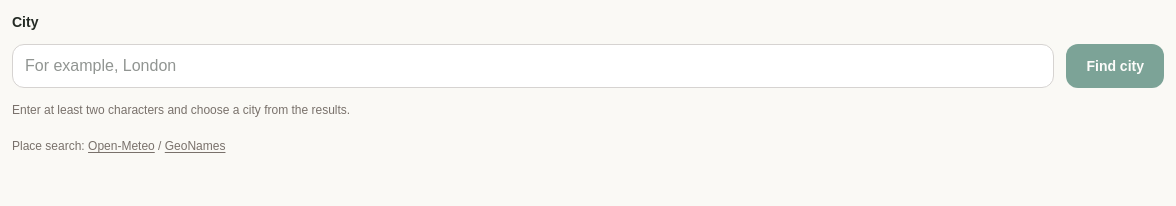
it: localizes an empty city search in en
Type "Unknown city" into the field labelled "City" at {"x": 533, "y": 66}, box [12, 44, 1054, 88]
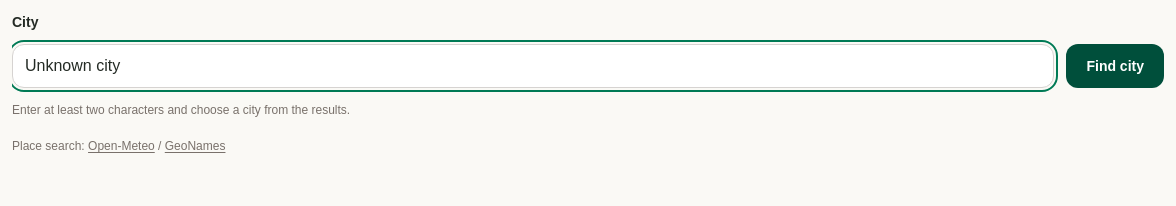
Click the button "Find city" at {"x": 1115, "y": 66}, box [1066, 44, 1164, 88]
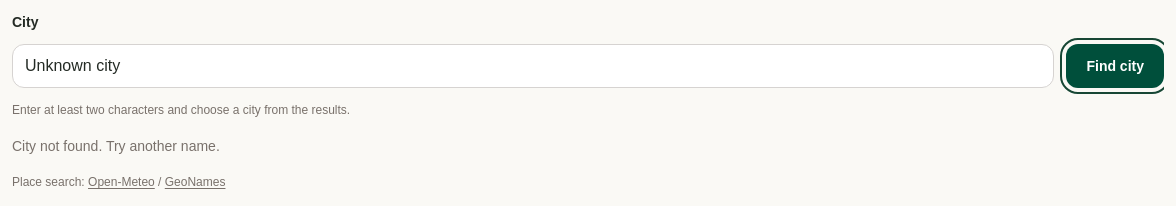
Check: the message reads "City not found. Try another name.", box [12, 138, 220, 154]
